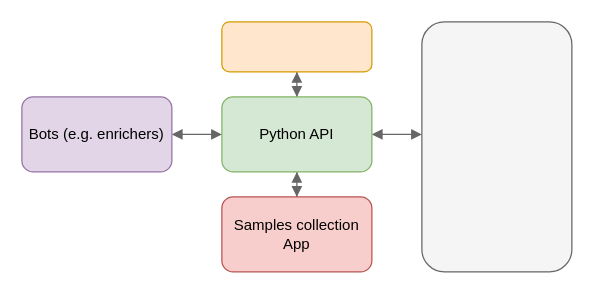
Image size: 594x294. Some labels were removed from this diagram. The centre of each missing label's shape, as x and y in pixels:
Backend Monolith: (496,146)
Website: (296,46)
